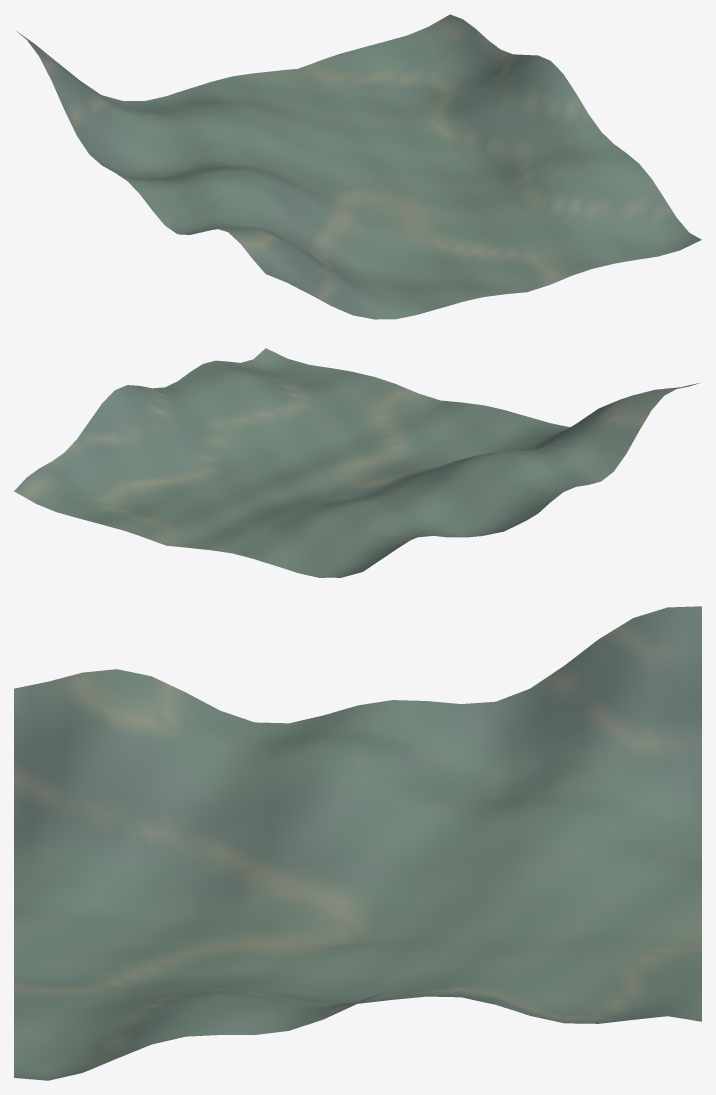
The model's file is ridge_-1_-16.glb.
3 renders of one model, top to bottom at view 1: azimuth 30°, elevation 25°; view 2: azimuth 150°, elevation 25°; view 3: azimuth 270°, elevation 25°, orthographic. The views are drawn at different scales.
Size of the model in its own units: 220 by 69.36 by 220.
